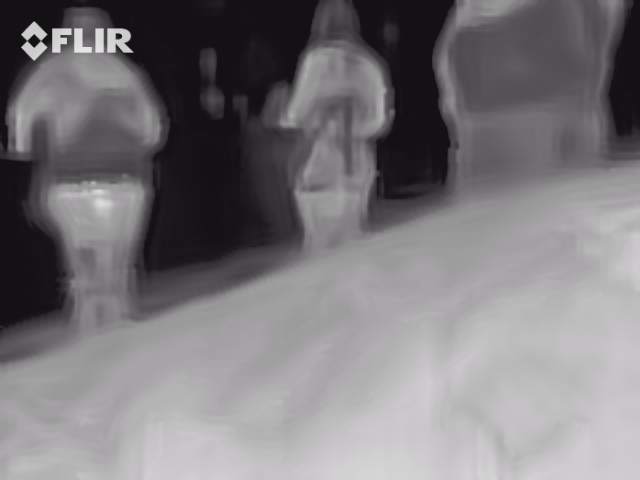head: (311, 2, 362, 50)
